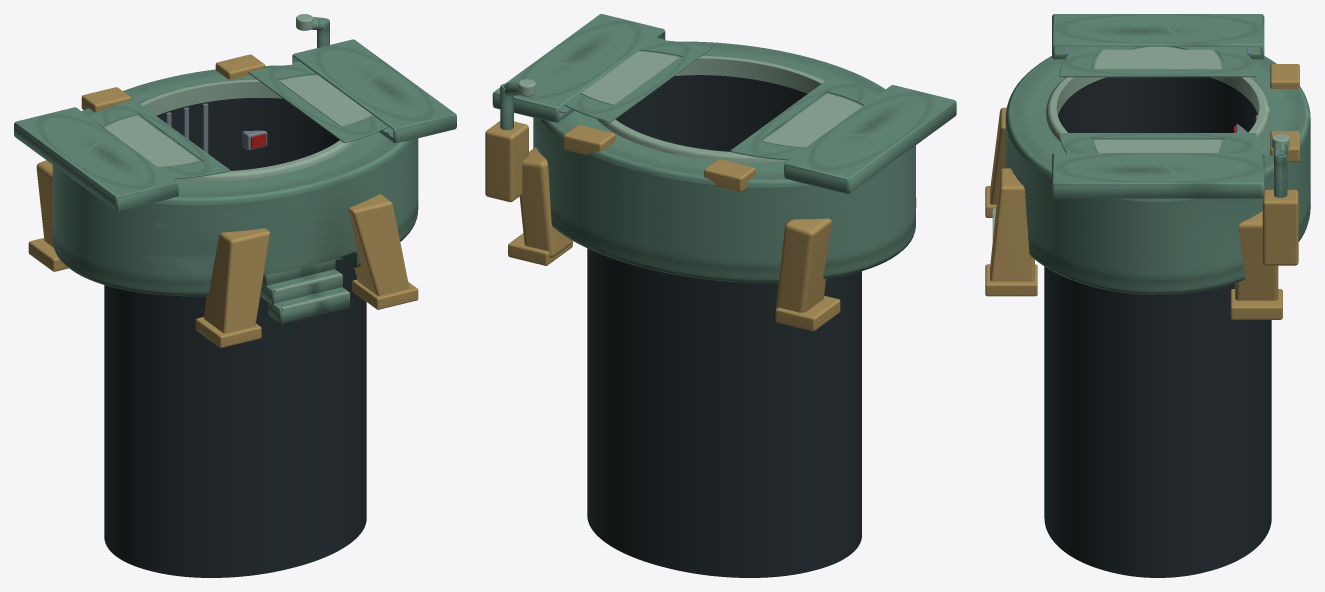
Rendered from descriptor-09.glb.
3 views of the same model, side by side, from view 1: azimuth 30°, elevation 25°; view 2: azimuth 150°, elevation 25°; view 3: azimuth 270°, elevation 25° (orthographic). The views are drawn at different scales.
Visible parts, largest first — view 1: RI10 shaft wall below ground, RI10 fixed oval body, RI10 enclosed side cover cassette, RI10 enclosed side cover cassette.001, RI10 front splayed brass buttress, RI10 front splayed brass buttress.001, RI10 green aperture coaming, RI10 right cover shell inner segment, RI10 left cover shell inner segment, RI10 recessed green cover field inner segment, RI10 recessed green cover field inner segment.001, RI10 front access step 0 (+8 smaller); view 2: RI10 shaft wall below ground, RI10 fixed oval body, RI10 enclosed side cover cassette, RI10 enclosed side cover cassette.001, RI10 green aperture coaming, RI10 rear brass load-bearing buttress, RI10 rear brass load-bearing buttress.001, RI10 right equipment mast foundation, RI10 right cover shell inner segment, RI10 left cover shell inner segment, RI10 recessed green cover field inner segment, RI10 recessed green cover field inner segment.001 (+4 smaller); view 3: RI10 shaft wall below ground, RI10 fixed oval body, RI10 enclosed side cover cassette.001, RI10 enclosed side cover cassette, RI10 front splayed brass buttress.001, RI10 left cover shell inner segment, RI10 right equipment mast foundation, RI10 recessed green cover field inner segment, RI10 rear brass load-bearing buttress.001, RI10 green aperture coaming, RI10 right cover shell inner segment, RI10 recessed green cover field inner segment.001 (+6 smaller).
Boxes of the visible parts, box(x1,y1,x2,y2) form: RI10 shaft wall below ground: box(104, 97, 366, 577); RI10 fixed oval body: box(52, 65, 418, 296); RI10 enclosed side cover cassette: box(14, 107, 178, 211); RI10 enclosed side cover cassette.001: box(292, 39, 456, 142); RI10 front splayed brass buttress: box(204, 228, 270, 333); RI10 front splayed brass buttress.001: box(348, 194, 409, 295); RI10 green aperture coaming: box(139, 79, 356, 181); RI10 right cover shell inner segment: box(248, 64, 388, 143); RI10 left cover shell inner segment: box(89, 100, 230, 179); RI10 recessed green cover field inner segment: box(104, 115, 199, 167); RI10 recessed green cover field inner segment.001: box(279, 75, 372, 126); RI10 front access step 0: box(268, 287, 350, 323); RI10 shaft wall below ground: box(587, 75, 861, 577); RI10 fixed oval body: box(533, 41, 915, 282); RI10 enclosed side cover cassette: box(784, 85, 956, 193); RI10 enclosed side cover cassette.001: box(492, 14, 665, 122); RI10 green aperture coaming: box(597, 55, 824, 162); RI10 rear brass load-bearing buttress: box(776, 218, 831, 312); RI10 rear brass load-bearing buttress.001: box(519, 147, 572, 257); RI10 right equipment mast foundation: box(485, 121, 528, 202); RI10 right cover shell inner segment: box(564, 39, 711, 122); RI10 left cover shell inner segment: box(730, 77, 877, 160); RI10 recessed green cover field inner segment: box(762, 93, 861, 147); RI10 recessed green cover field inner segment.001: box(581, 51, 679, 105); RI10 shaft wall below ground: box(1044, 77, 1271, 577); RI10 fixed oval body: box(1005, 56, 1310, 294); RI10 enclosed side cover cassette.001: box(1052, 153, 1264, 198); RI10 enclosed side cover cassette: box(1052, 14, 1264, 59); RI10 front splayed brass buttress.001: box(990, 168, 1034, 281); RI10 left cover shell inner segment: box(1059, 49, 1256, 77); RI10 right equipment mast foundation: box(1262, 189, 1298, 265); RI10 recessed green cover field inner segment: box(1094, 49, 1221, 69); RI10 rear brass load-bearing buttress.001: box(1235, 211, 1278, 300); RI10 green aperture coaming: box(1046, 77, 1270, 141); RI10 right cover shell inner segment: box(1059, 133, 1256, 152); RI10 recessed green cover field inner segment.001: box(1094, 139, 1221, 152).
Bounding box in the file's own units: 2.7 × 3.31 × 2.17.
Materials: 7 (2 with a texture image).
